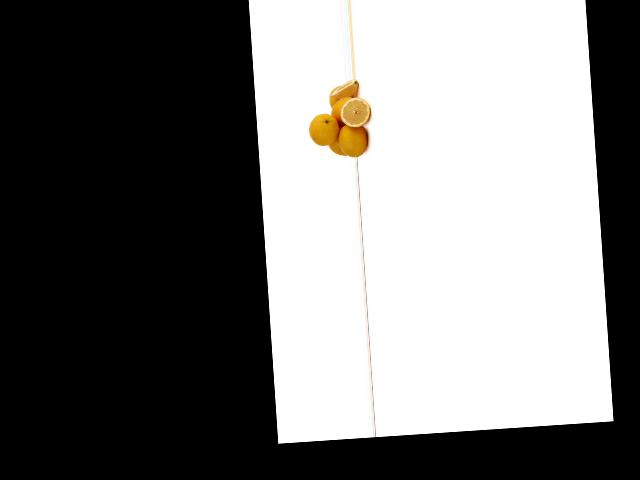lemon: (332, 120, 370, 158)
